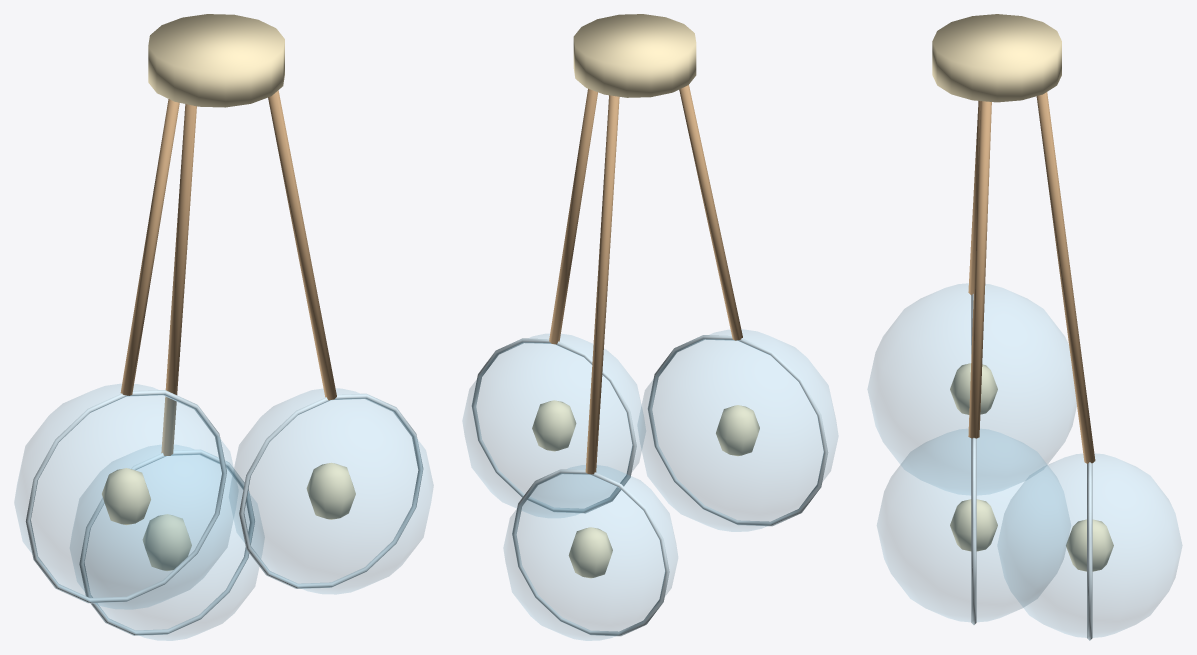
File: lamp_bubble.glb
3 renders of one model, left to right at view 1: azimuth 30°, elevation 25°; view 2: azimuth 150°, elevation 25°; view 3: azimuth 270°, elevation 25°, orthographic. The views are drawn at different scales.
Parts seen in each view (by area): view 1: Body, Bulb; view 2: Body, Bulb; view 3: Body, Bulb.
Boxes of the visible parts, x1=… form: Body: x1=14, y1=14, x2=433, y2=640; Bulb: x1=102, y1=462, x2=355, y2=570; Body: x1=462, y1=14, x2=838, y2=640; Bulb: x1=532, y1=400, x2=759, y2=578; Body: x1=867, y1=14, x2=1182, y2=640; Bulb: x1=950, y1=363, x2=1113, y2=571.
Bounding box in the file's own units: 0.466 × 0.703 × 0.34.
4 materials, 4 textured.
